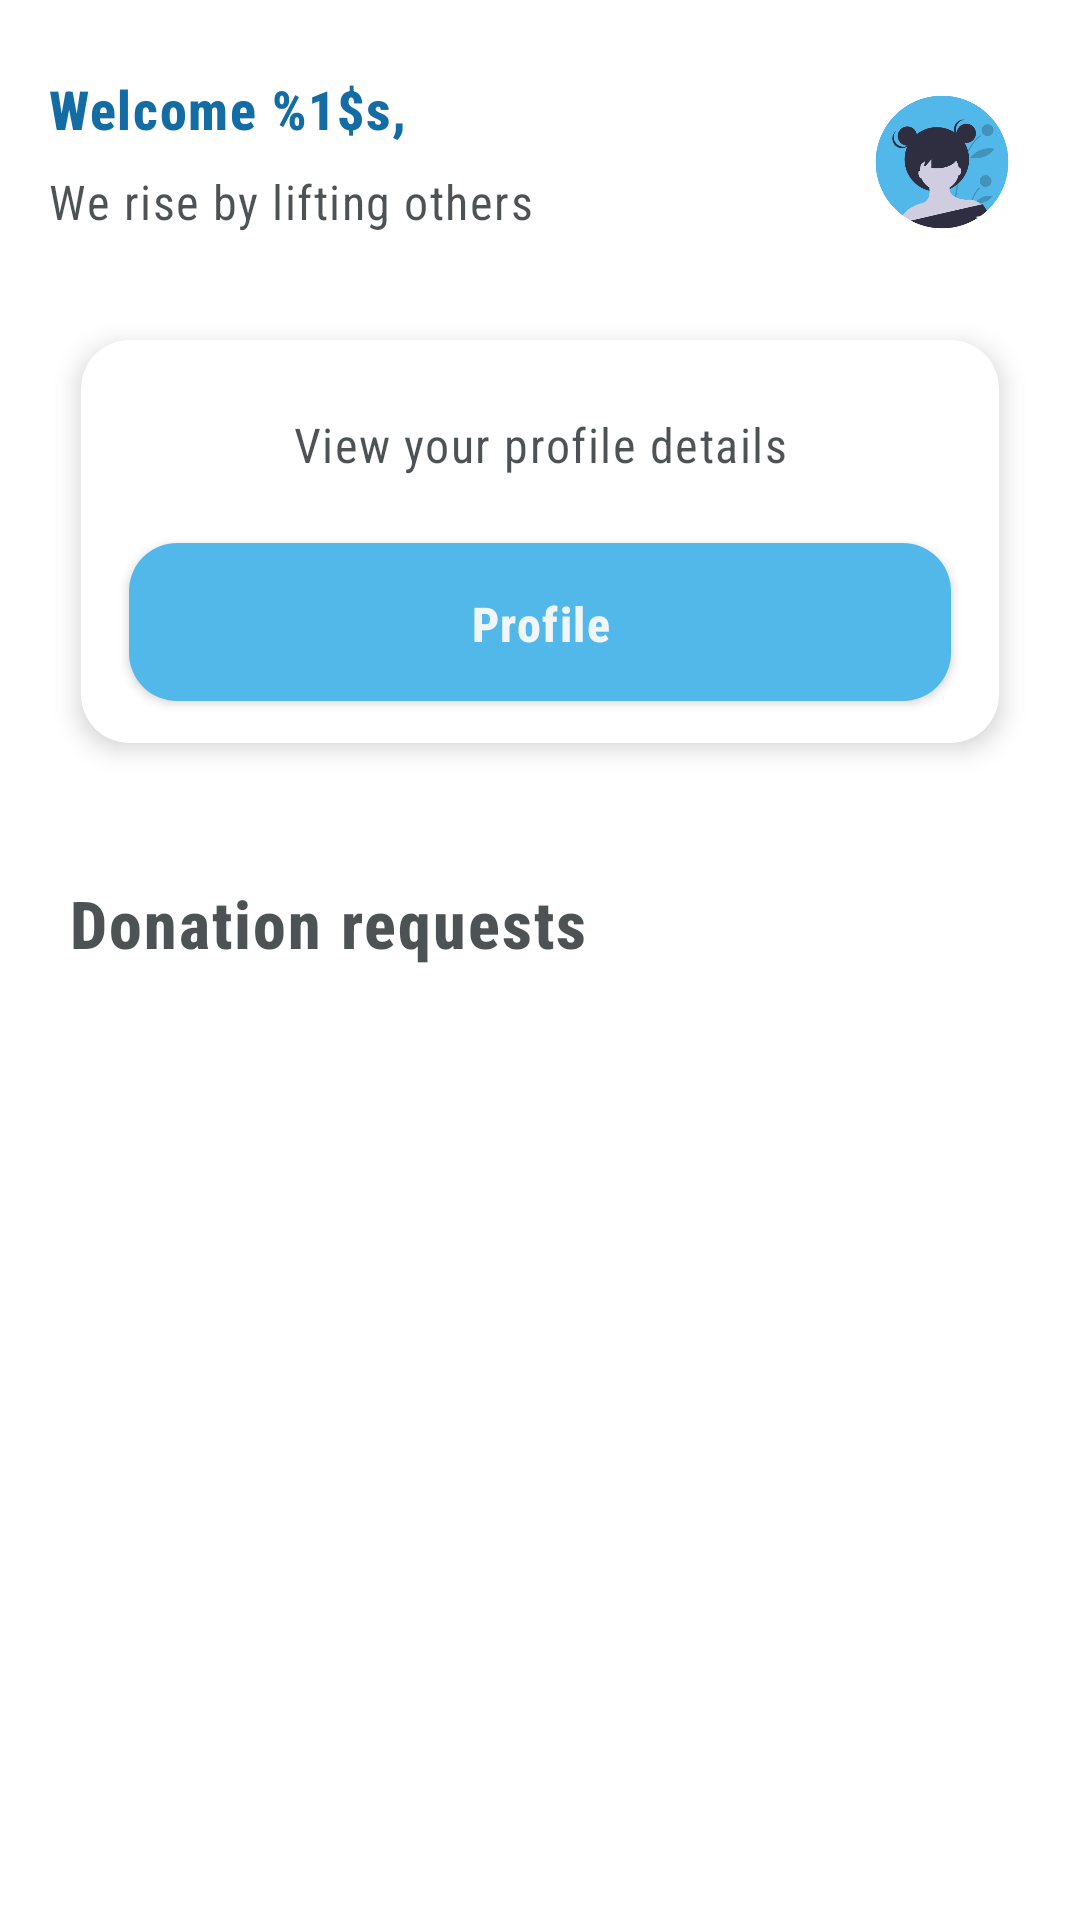

Screen size 1080x1920. Icon name, then its box in pixels as (x1, y1, x2, y2):
Profile icon: (875, 96, 1009, 228)
